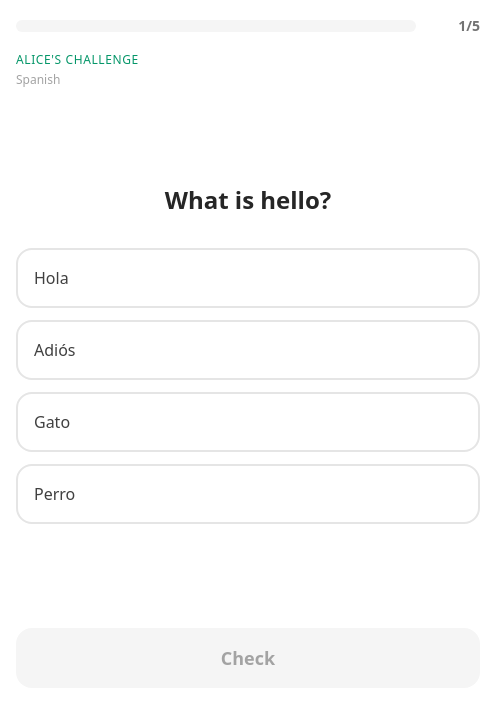
ChallengeQuiz › should progress through 5 questions
This screenshot has width=497, height=705.
Answer question 1
Click the button "Hola" at (51, 278), box [16,248,480,308]
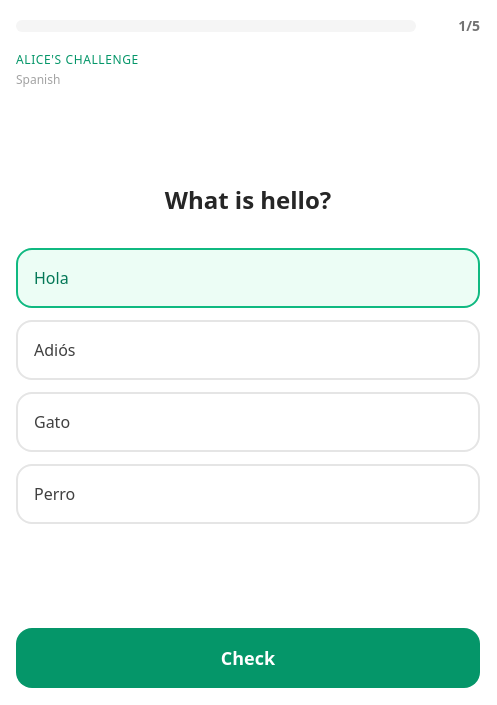
Click the button with test id "challenge-check-btn" at (248, 658), box [16,628,480,688]
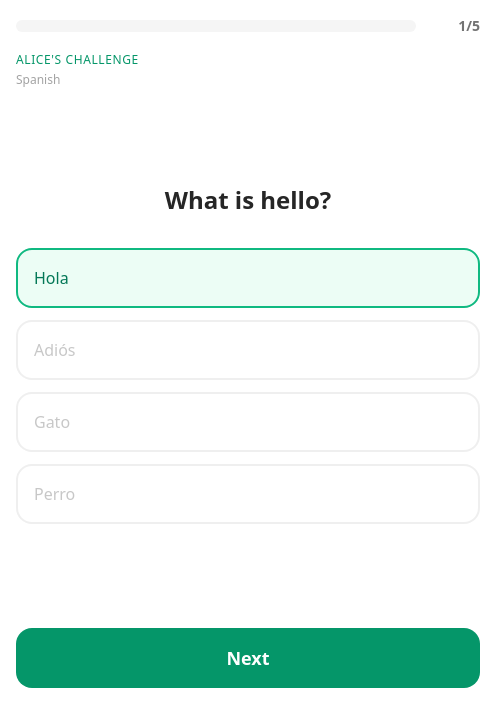
Now status is "correct", click Next
Click the button with test id "challenge-check-btn" at (248, 658), box [16,628,480,688]
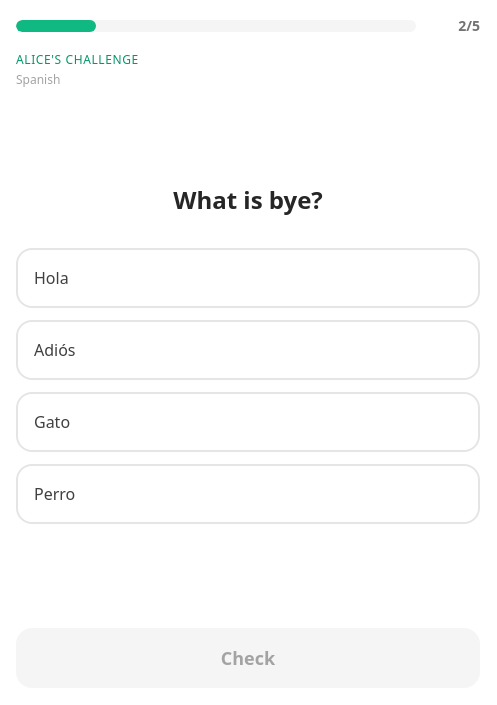
Expected: the heading "What is bye?" is shown, [173,184,323,216]
Expected: the text "2/5" is shown, [458,16,480,35]
